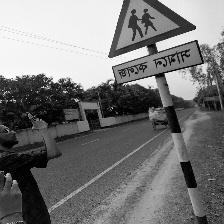College-in-front: (90, 0, 208, 80)
